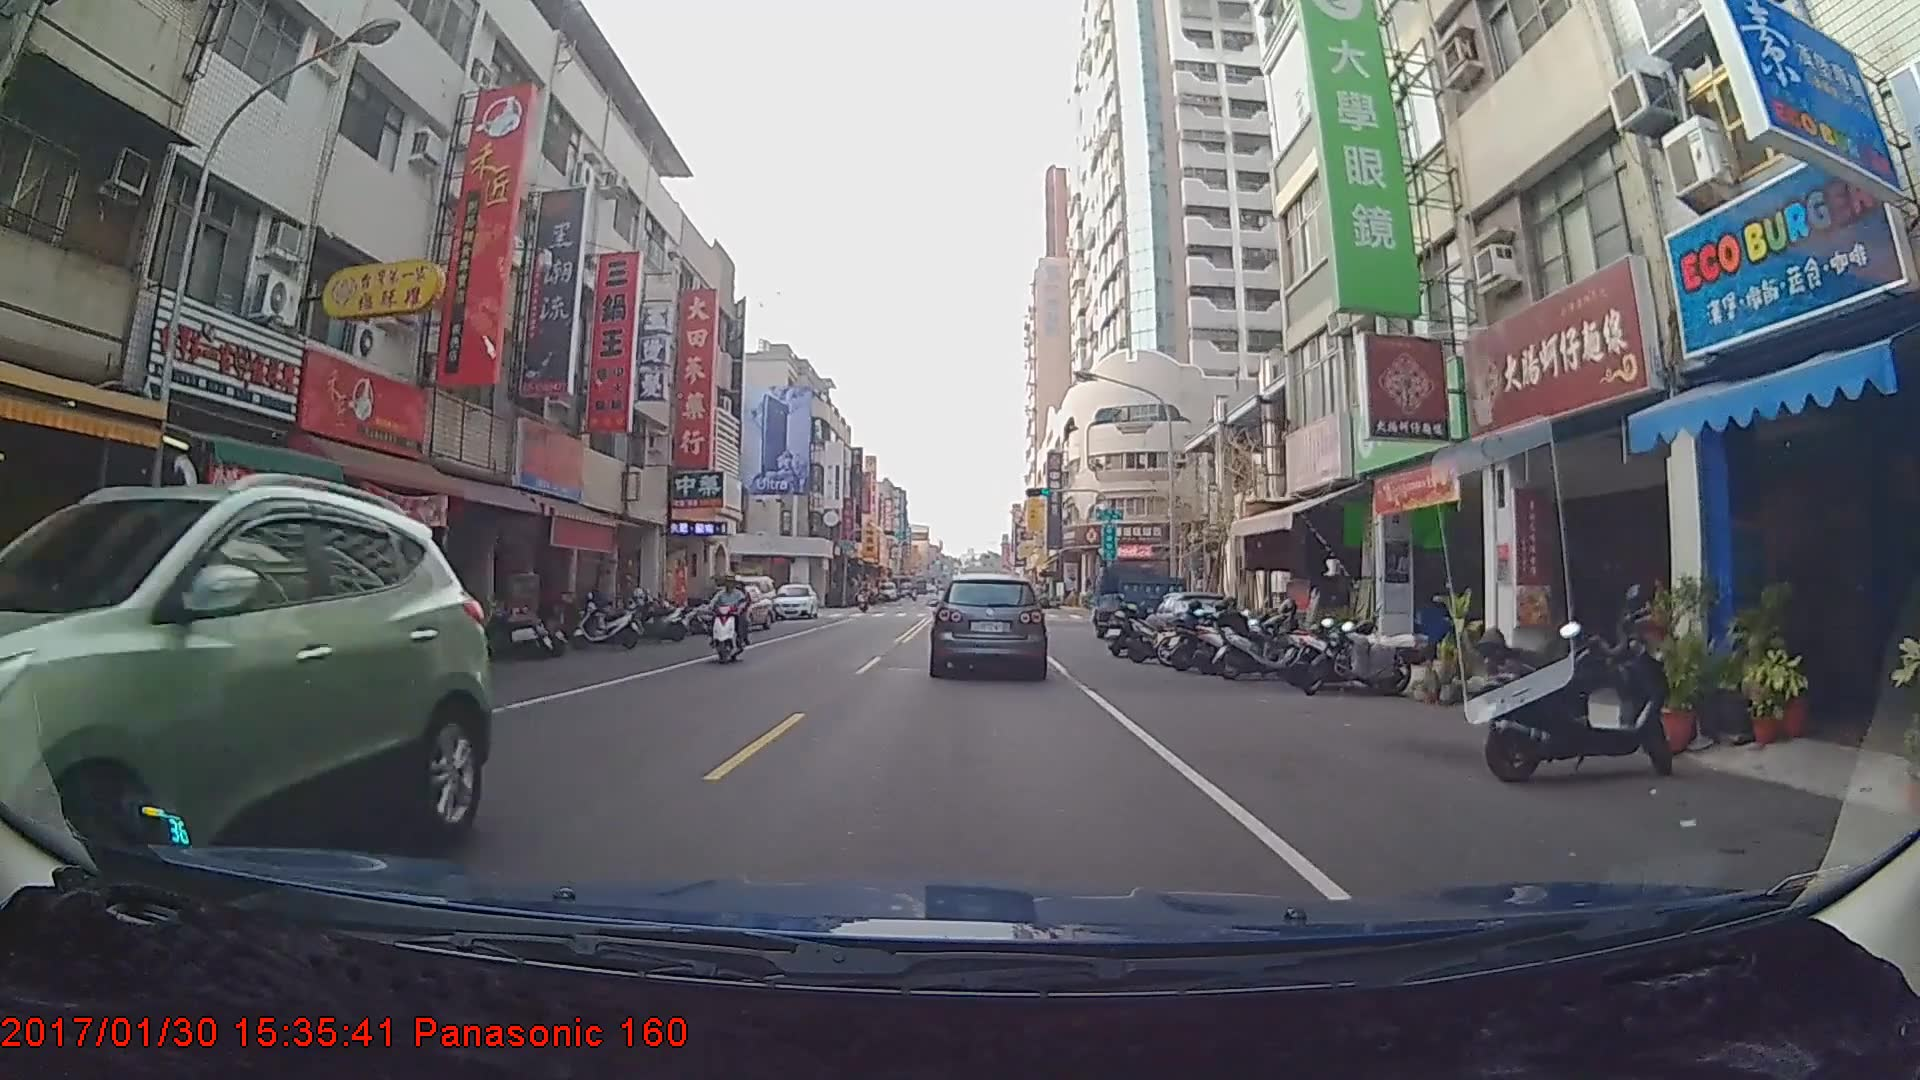rider: (705, 573, 758, 668)
vehicle: (0, 484, 485, 908), (931, 571, 1045, 677), (1090, 563, 1191, 643), (693, 584, 773, 635), (770, 585, 818, 625)
